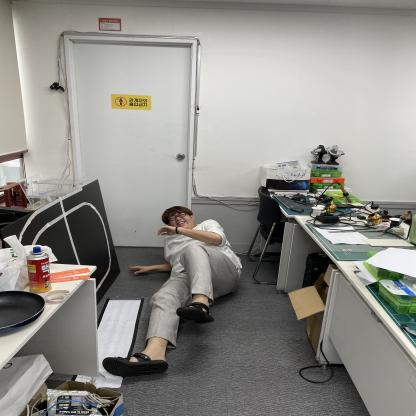fall: (132, 199, 238, 378)
